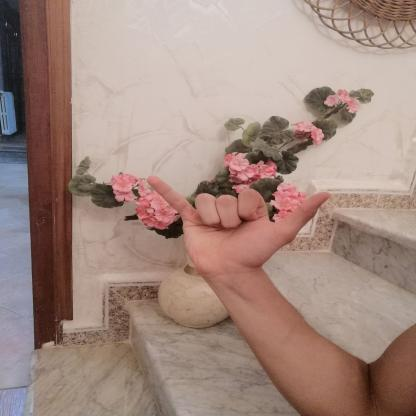YA: (134, 165, 341, 286)
